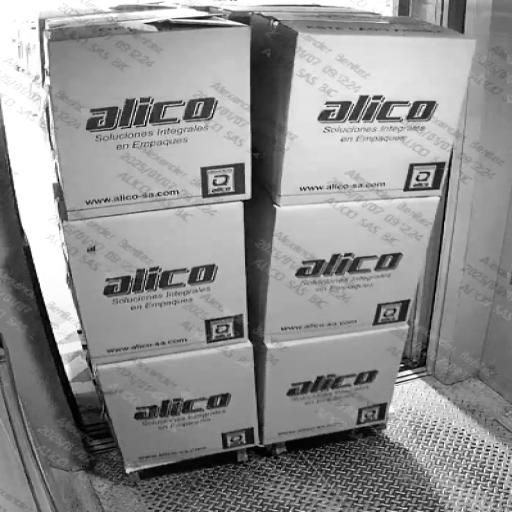Rollos sin amarrar: (72, 4, 425, 346)
